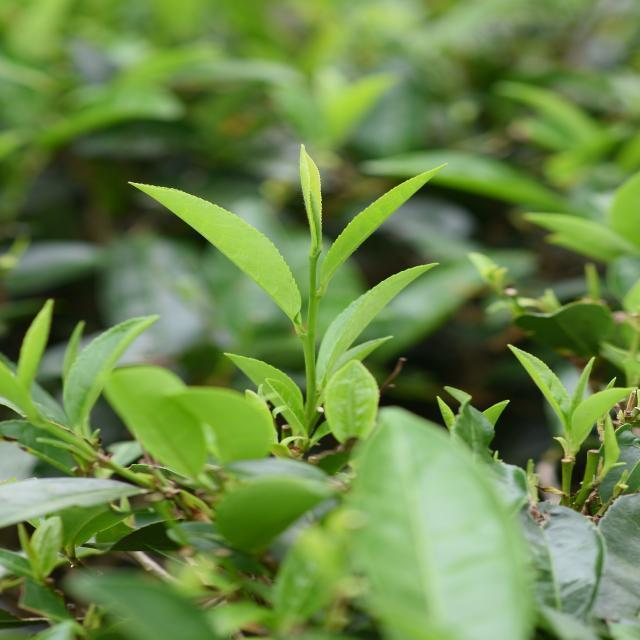Stem: (311, 294, 319, 302)
